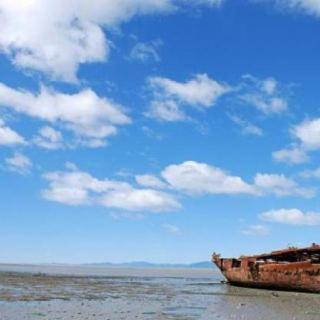Cirrostratus: (0, 0, 320, 228)
